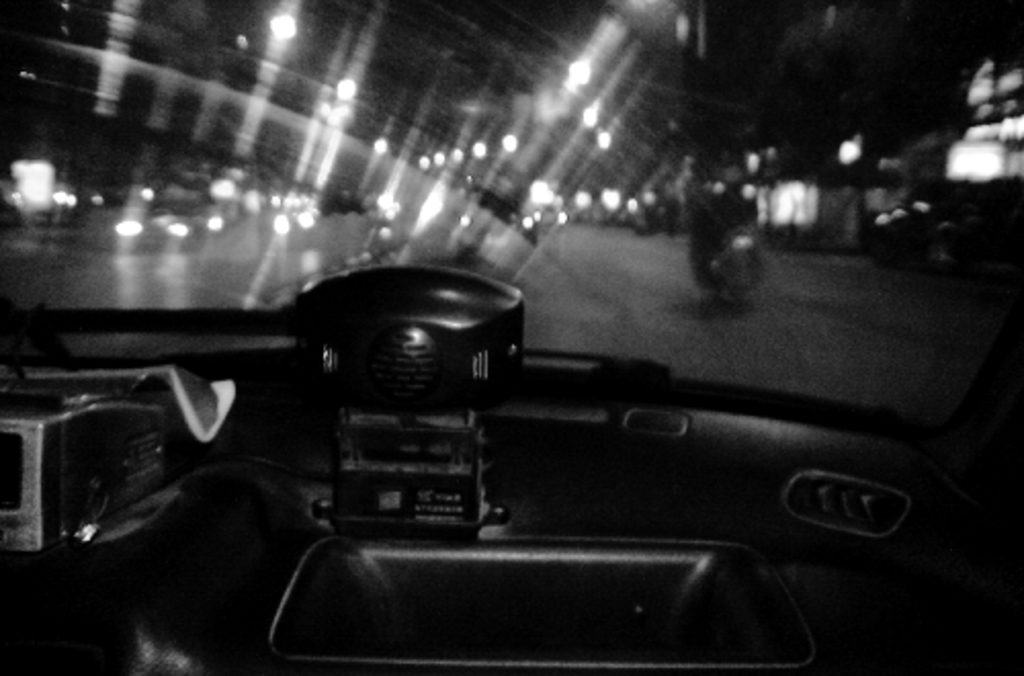Car: (0, 0, 1021, 673)
